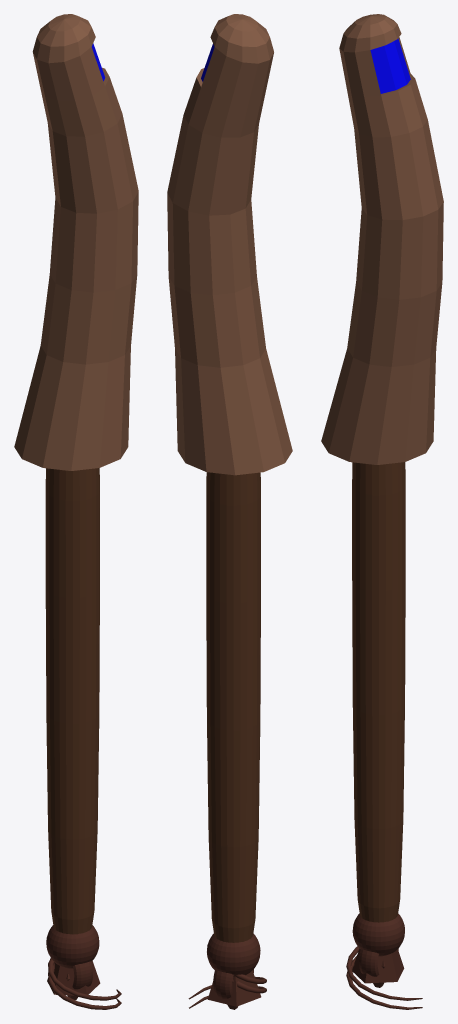
The model's file is Wand 49.glb.
3 renders of one model, left to right at view 1: azimuth 30°, elevation 25°; view 2: azimuth 150°, elevation 25°; view 3: azimuth 330°, elevation 25°, orthographic. The views are drawn at different scales.
Visible parts, largest first — view 1: GeneratedWand, Pommel_4, Pommel_9, Pommel_2, Pommel_10; view 2: GeneratedWand, Pommel_4, Pommel_9, Pommel_2; view 3: GeneratedWand, Pommel_4, Pommel_9, Pommel_2, Pommel_10.
Boxes of the visible parts, bbox=[...] form: GeneratedWand: bbox=[14, 14, 138, 1000]; Pommel_4: bbox=[46, 925, 99, 968]; Pommel_9: bbox=[47, 961, 100, 995]; Pommel_2: bbox=[72, 961, 92, 989]; Pommel_10: bbox=[48, 963, 121, 1009]; GeneratedWand: bbox=[167, 14, 292, 999]; Pommel_4: bbox=[207, 933, 260, 976]; Pommel_9: bbox=[207, 970, 261, 1006]; Pommel_2: bbox=[213, 969, 253, 998]; GeneratedWand: bbox=[321, 14, 443, 1000]; Pommel_4: bbox=[352, 913, 404, 956]; Pommel_9: bbox=[352, 948, 404, 983]; Pommel_2: bbox=[359, 948, 398, 976]; Pommel_10: bbox=[346, 956, 422, 1009].
Bounding box in the file's own units: 0.0644 × 0.5492 × 0.0572.
